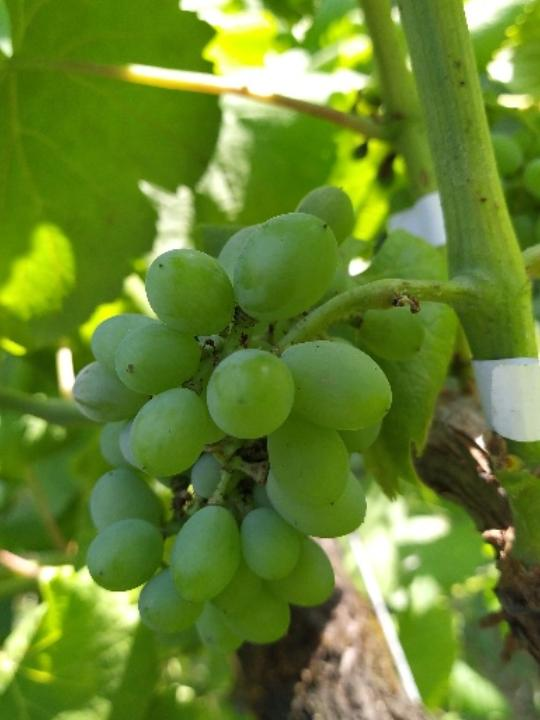grape: (58, 180, 422, 659)
